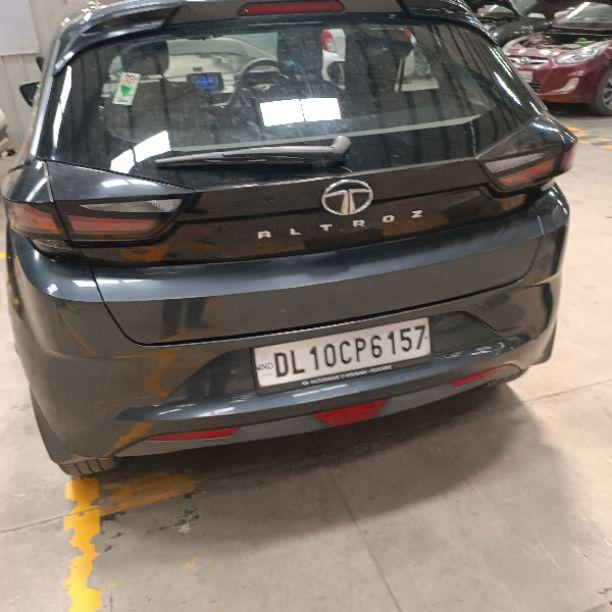license_plate: (249, 315, 432, 395)
